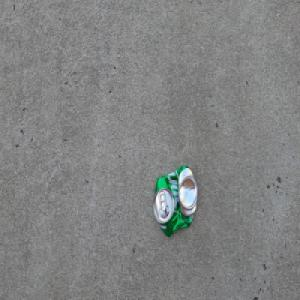SodaCan: (152, 163, 197, 237)
